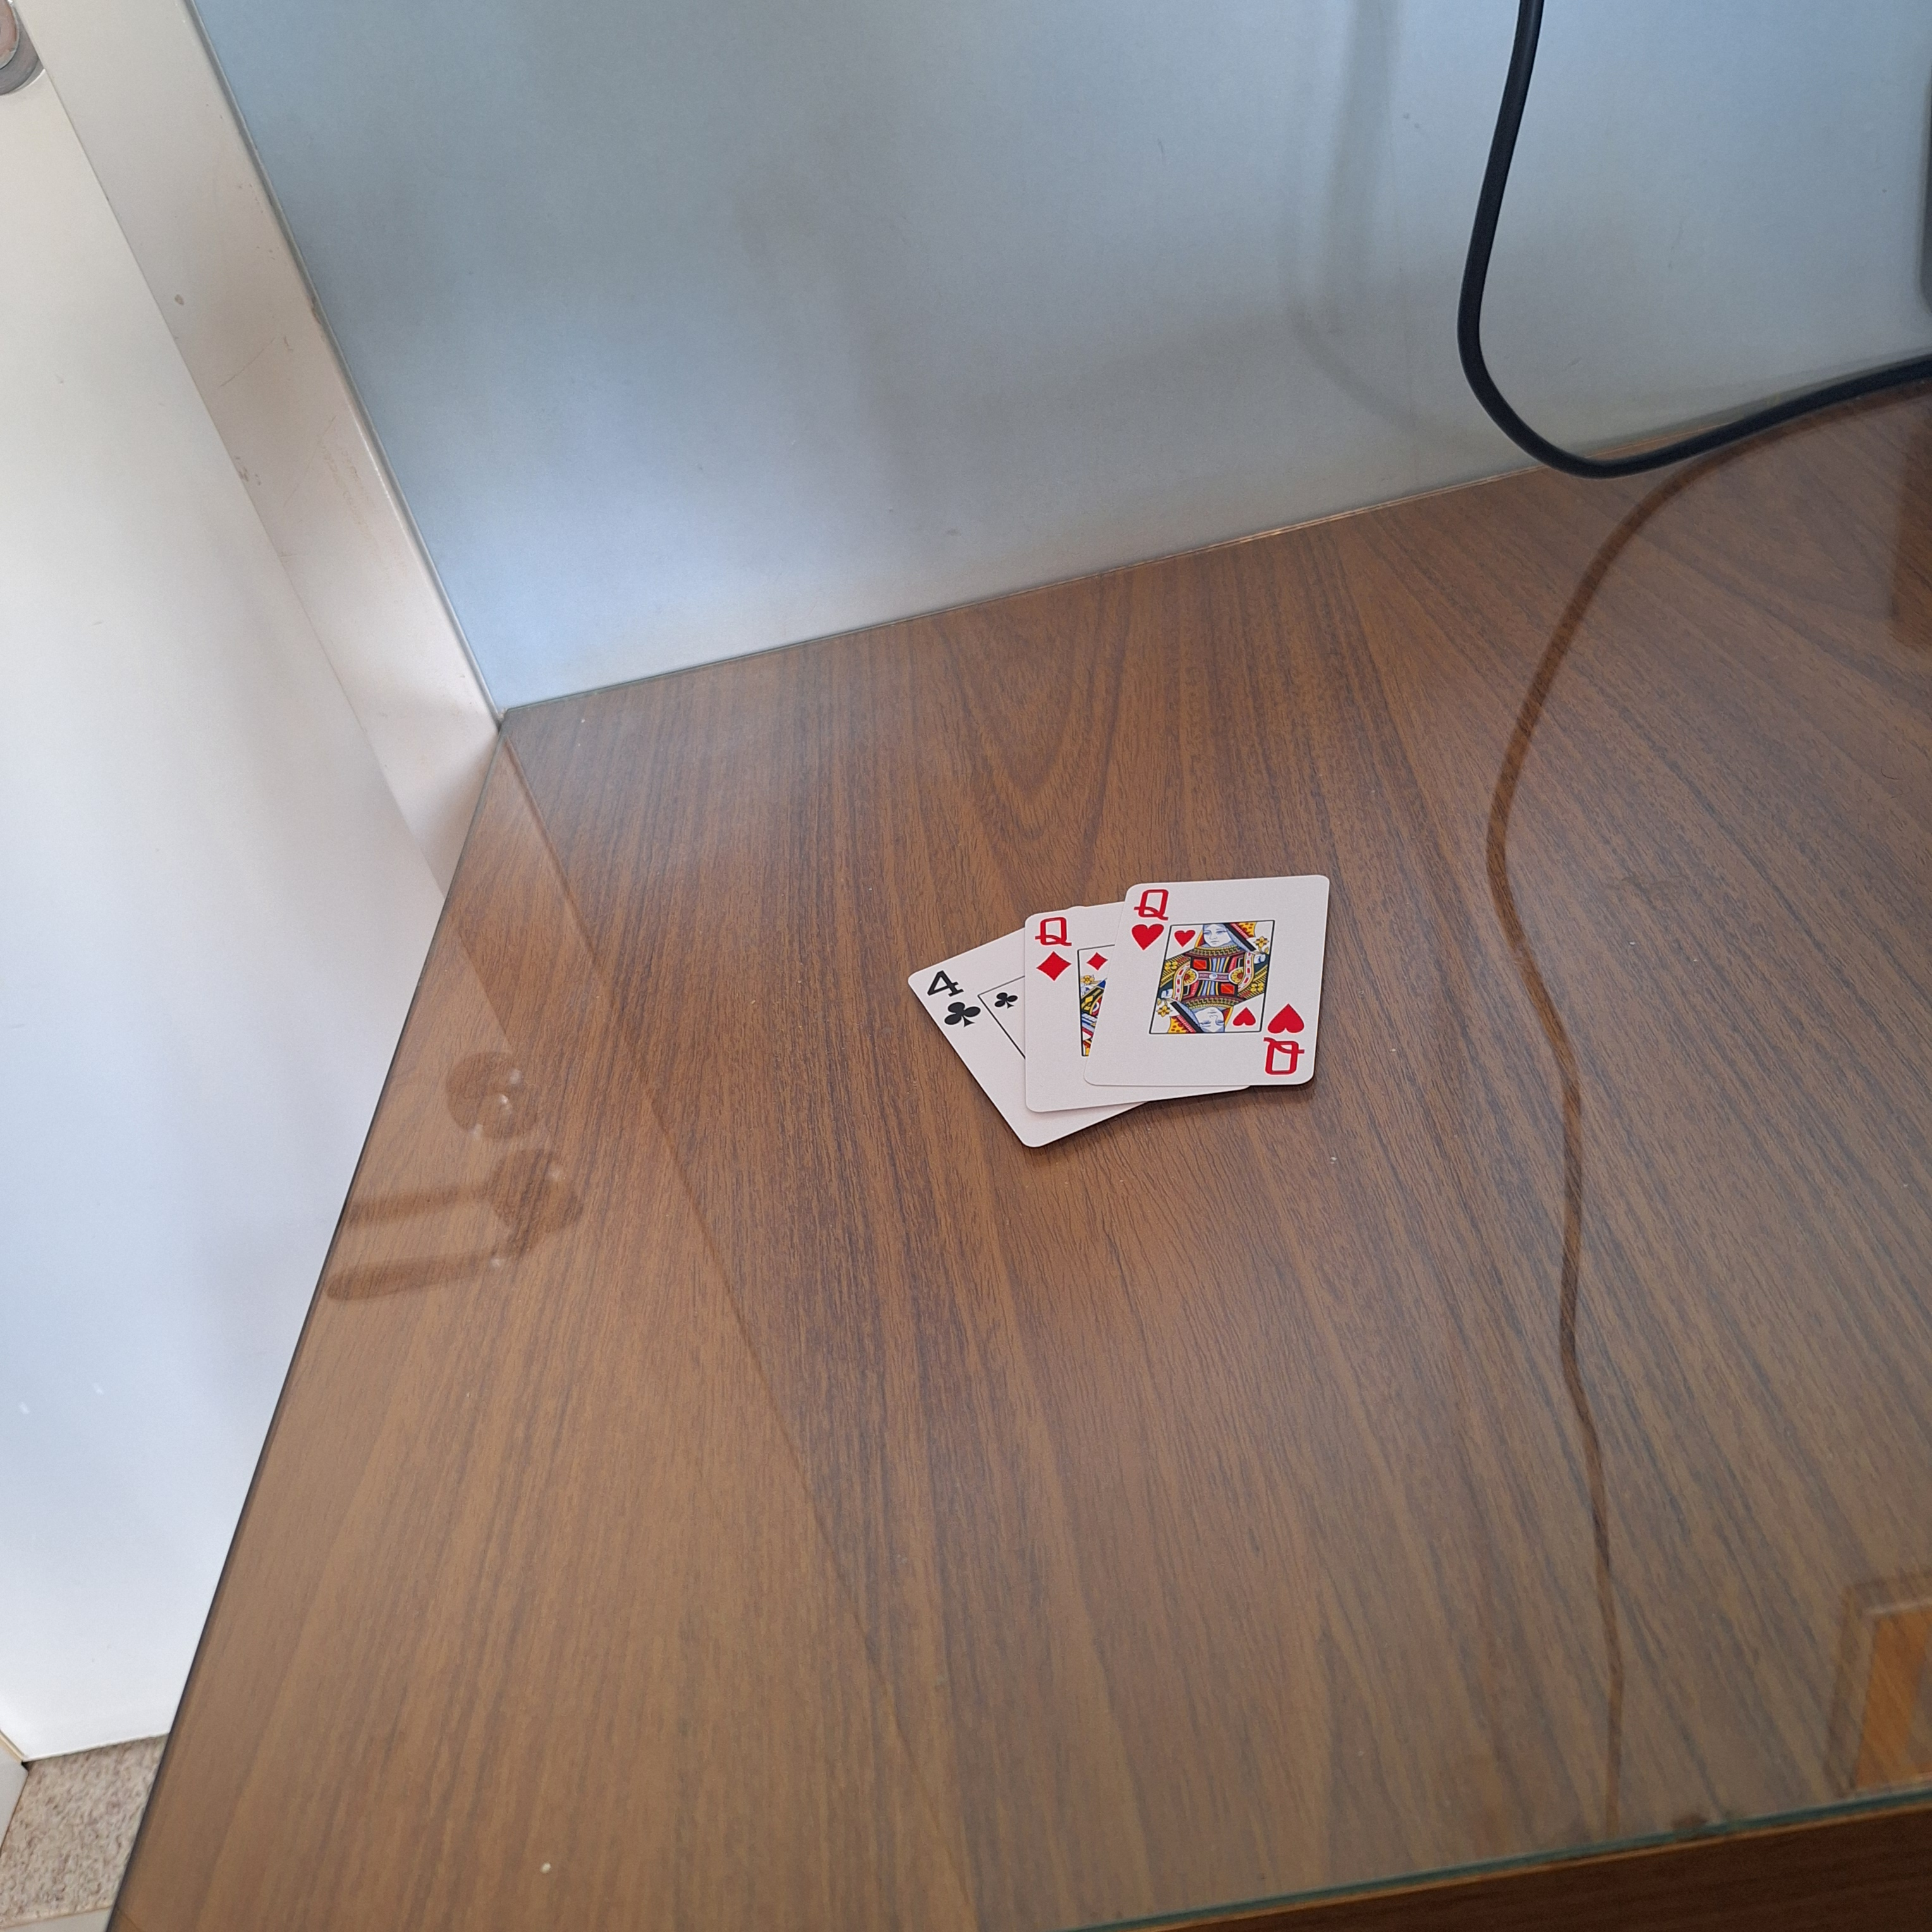4P: (922, 962, 985, 1030)
QC: (1260, 1000, 1315, 1081), (1127, 885, 1173, 959)
QO: (1030, 908, 1077, 987)
